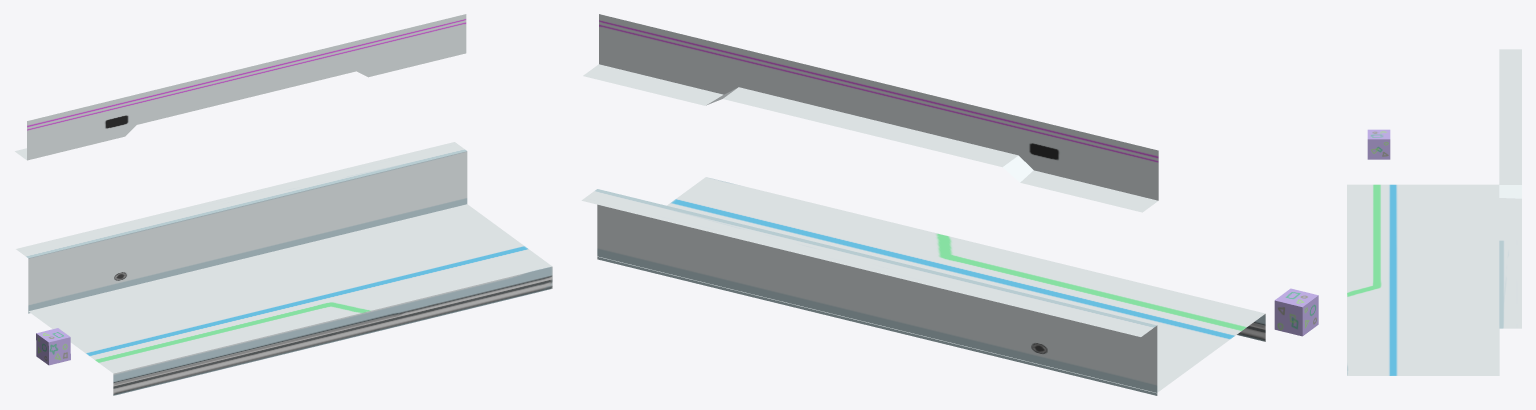
The model's file is dogeza2 (1).fbx.
3 views of the same model, side by side, from view 1: azimuth 30°, elevation 25°; view 2: azimuth 150°, elevation 25°; view 3: azimuth 270°, elevation 25° (orthographic). The views are drawn at different scales.
Visible parts, largest first — view 1: pCube3, pCube4, pCube5, pCube2; view 2: pCube4, pCube5, pCube3, pCube2; view 3: pCube3, pCube5, pCube4, pCube2.
Part boxes in pixels (bbox=[...]): pCube3: bbox=[28, 204, 552, 395]; pCube4: bbox=[16, 142, 467, 313]; pCube5: bbox=[15, 14, 466, 160]; pCube2: bbox=[36, 328, 70, 365]; pCube4: bbox=[581, 189, 1157, 395]; pCube5: bbox=[583, 14, 1158, 212]; pCube3: bbox=[597, 177, 1265, 393]; pCube2: bbox=[1274, 288, 1318, 336]; pCube3: bbox=[1347, 184, 1499, 375]; pCube5: bbox=[1499, 49, 1521, 240]; pCube4: bbox=[1499, 240, 1521, 328]; pCube2: bbox=[1367, 129, 1390, 159].
Size of the model in its own units: 22.42 by 9.26 by 7.72.
4 materials, 4 textured.
